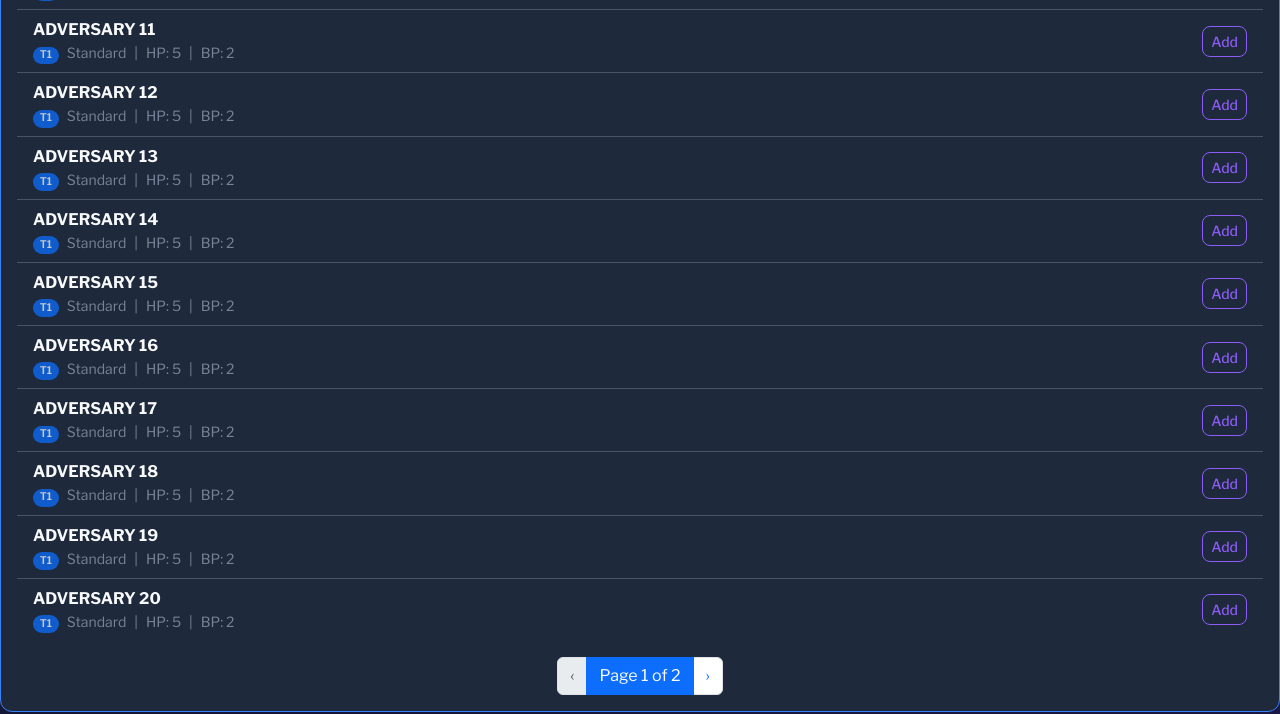
AdversaryLibrary › paginates long result lists
(page scrolled)
Check: the text "Page 1 of 2" is shown, box [586,657,694,695]
Check: the text "ADVERSARY 21" is not shown
Click the button named "next" at (708, 676), box [692,657,723,695]
(page scrolled)
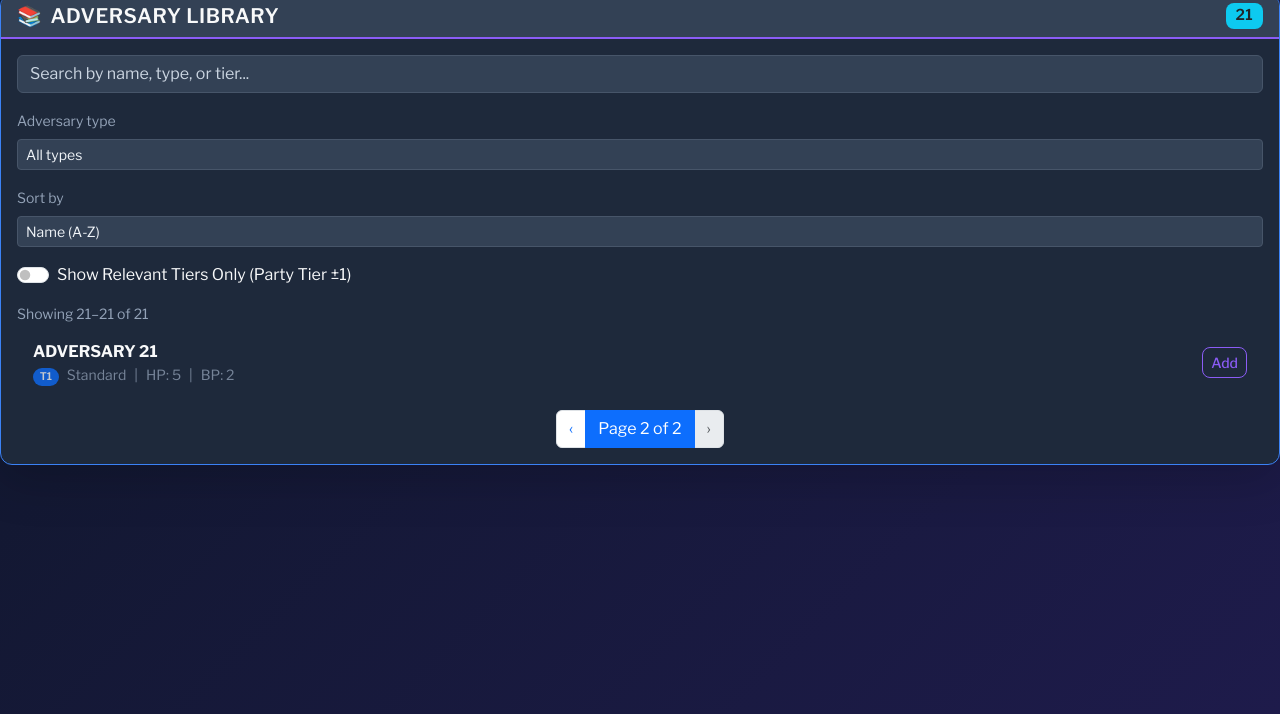
Check: the text "Showing 21–21 of 21" is shown, box [17,304,149,322]
Check: the text "Page 2 of 2" is shown, box [585,410,695,448]
Check: the text "ADVERSARY 21" is shown, box [33,342,158,360]
